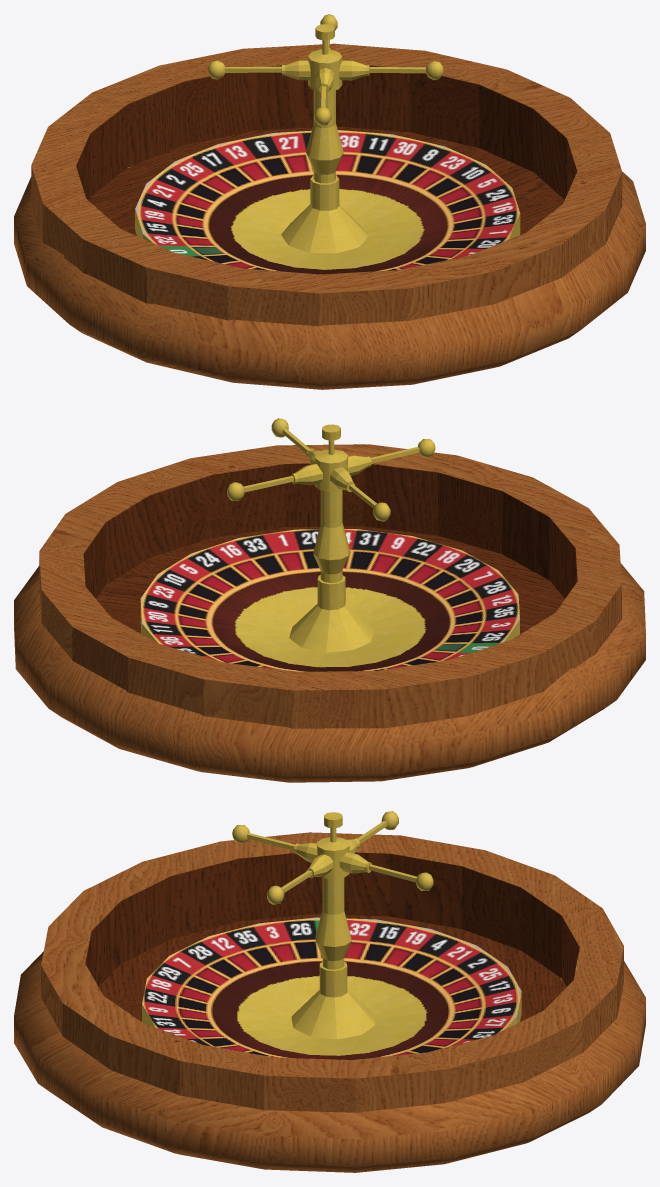
File: Roulette.fbx
3 views of the same model, one above another, from view 1: azimuth 30°, elevation 25°; view 2: azimuth 150°, elevation 25°; view 3: azimuth 270°, elevation 25° (orthographic).
Parts seen in each view (by area): view 1: Roulette (×2); view 2: Roulette (×2); view 3: Roulette (×2).
Part boxes in pixels (x1,y1,x2,y2): Roulette (×2): (14, 14, 645, 389); Roulette (×2): (14, 418, 645, 782); Roulette (×2): (14, 811, 645, 1172).
Size of the model in its own units: 73.98 by 30.99 by 74.55.
1 material, 1 textured.
